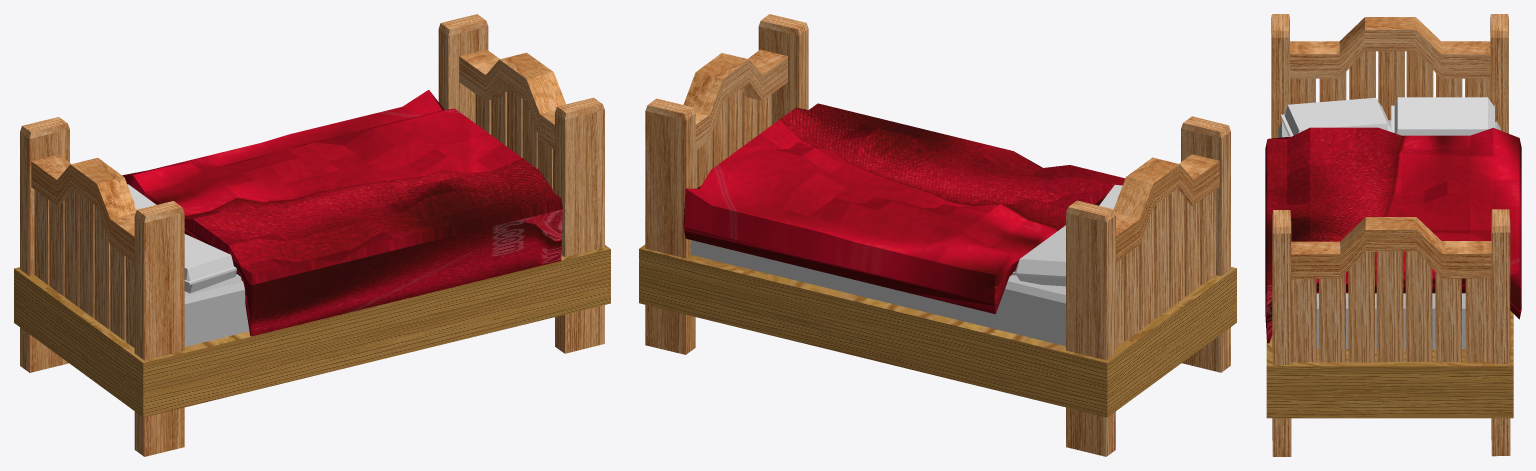
The model's file is bed.gltf.
The picture shows the model from 3 angles, left to right: view 1: azimuth 30°, elevation 25°; view 2: azimuth 150°, elevation 25°; view 3: azimuth 270°, elevation 25°; orthographic projection. The views are drawn at different scales.
Parts seen in each view (by area): view 1: 큐브.025, 큐브, 큐브.001, 큐브.017, 큐브.010, 큐브.011, 큐브.004, 큐브.021, 큐브.020, 큐브.024, 큐브.002, 큐브.003 (+8 smaller); view 2: 큐브.025, 큐브, 큐브.004, 큐브.020, 큐브.021, 큐브.010, 큐브.011, 큐브.001, 큐브.017, 큐브.022, 큐브.002, 큐브.005 (+8 smaller); view 3: 큐브.025, 큐브, 큐브.010, 큐브.011, 큐브.017, 큐브.020, 큐브.022, 큐브.019, 큐브.016, 큐브.024, 큐브.018, 큐브.013 (+13 smaller).
Part boxes in pixels (x1,y1,x2,y2): 큐브.025: (122, 90, 562, 336); 큐브: (14, 245, 610, 417); 큐브.001: (134, 201, 184, 456); 큐브.017: (555, 97, 604, 353); 큐브.010: (31, 154, 136, 262); 큐브.011: (459, 49, 565, 150); 큐브.004: (20, 117, 69, 372); 큐브.021: (184, 252, 561, 346); 큐브.020: (438, 14, 488, 123); 큐브.024: (184, 234, 236, 293); 큐브.002: (79, 194, 94, 317); 큐브.003: (64, 188, 79, 307); 큐브.025: (683, 103, 1125, 314); 큐브: (639, 244, 1236, 417); 큐브.004: (1066, 200, 1115, 456); 큐브.020: (645, 98, 695, 354); 큐브.021: (690, 240, 1065, 346); 큐브.010: (1114, 154, 1219, 262); 큐브.011: (683, 49, 787, 150); 큐브.001: (1181, 116, 1230, 372); 큐브.017: (758, 14, 808, 124); 큐브.022: (1012, 225, 1065, 286); 큐브.002: (1154, 195, 1169, 319); 큐브.005: (1169, 188, 1184, 307); 큐브.025: (1265, 127, 1521, 343); 큐브: (1266, 311, 1513, 418); 큐브.010: (1290, 17, 1490, 78); 큐브.011: (1291, 217, 1491, 279); 큐브.017: (1272, 210, 1291, 456); 큐브.020: (1491, 209, 1510, 456); 큐브.022: (1391, 97, 1494, 135); 큐브.019: (1376, 251, 1403, 362); 큐브.016: (1405, 251, 1432, 361); 큐브.024: (1280, 97, 1393, 136); 큐브.018: (1348, 251, 1374, 362); 큐브.013: (1435, 272, 1461, 361).
Bounding box in the file's own units: 58.28 × 28.58 × 29.02.
Materials: 19 (18 with a texture image).
